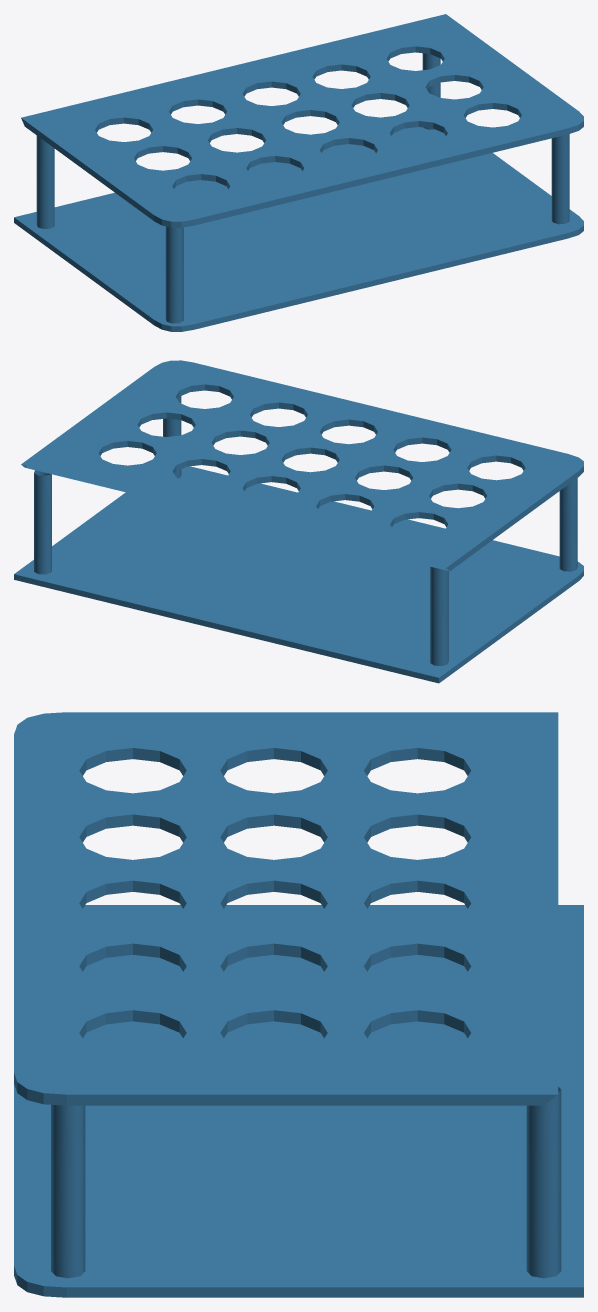
File: SM_水解管架.fbx
The picture shows the model from 3 angles, top to bottom: view 1: azimuth 30°, elevation 25°; view 2: azimuth 150°, elevation 25°; view 3: azimuth 270°, elevation 25°; orthographic projection. The views are drawn at different scales.
Parts seen in each view (by area): view 1: SM_水解管架; view 2: SM_水解管架; view 3: SM_水解管架.
Boxes of the visible parts, left/top/right/bottom form: SM_水解管架: left=14, top=14, right=583, bottom=331; SM_水解管架: left=14, top=360, right=583, bottom=683; SM_水解管架: left=14, top=712, right=583, bottom=1297.
Bounding box in the file's own units: 123 × 30.52 × 77.59.
